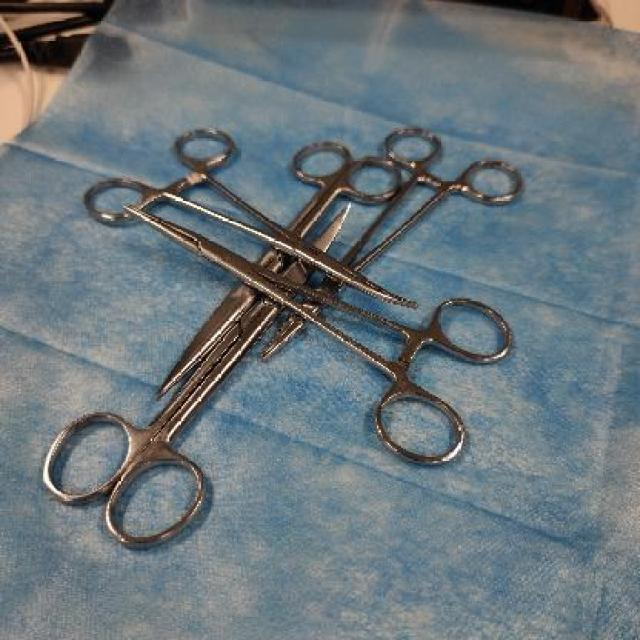tools_table: (29, 89, 544, 551)
